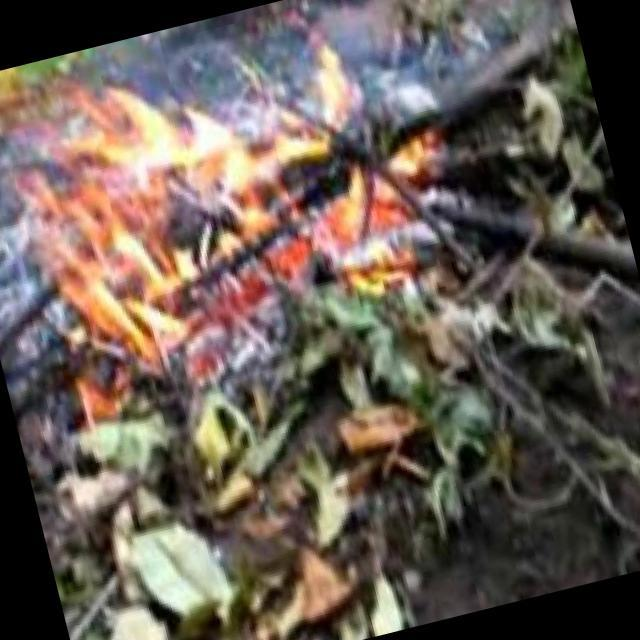Fire: (1, 1, 475, 407)
